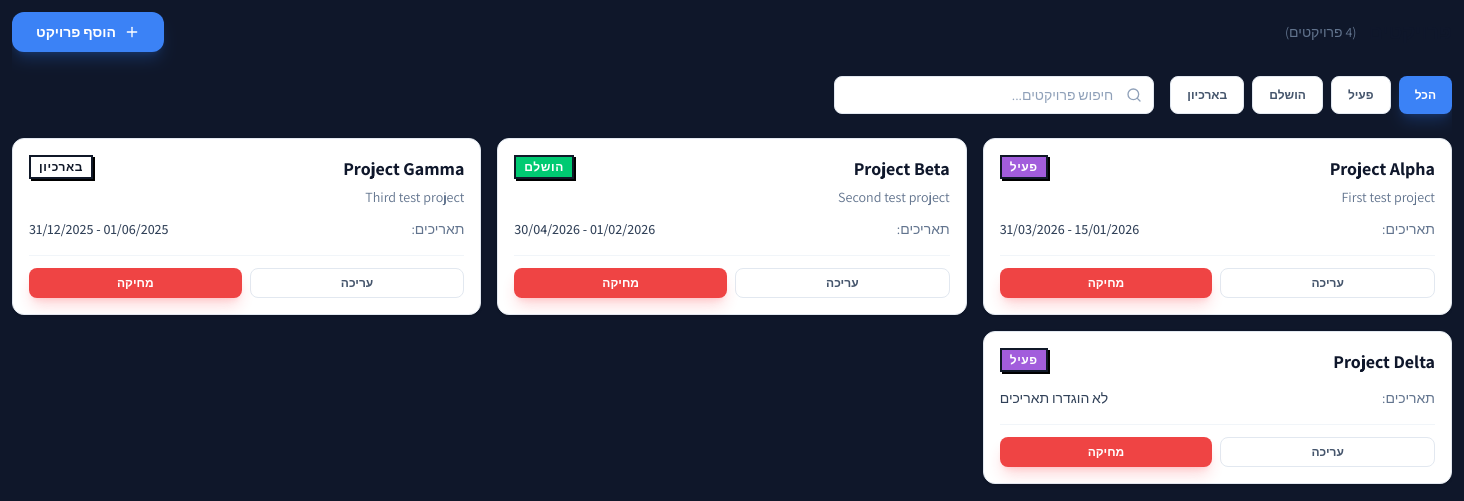
ProjectsList › status filter › filters to completed projects when completed button clicked
Click the button "הושלם": (1288,95) [1252,76,1323,114]
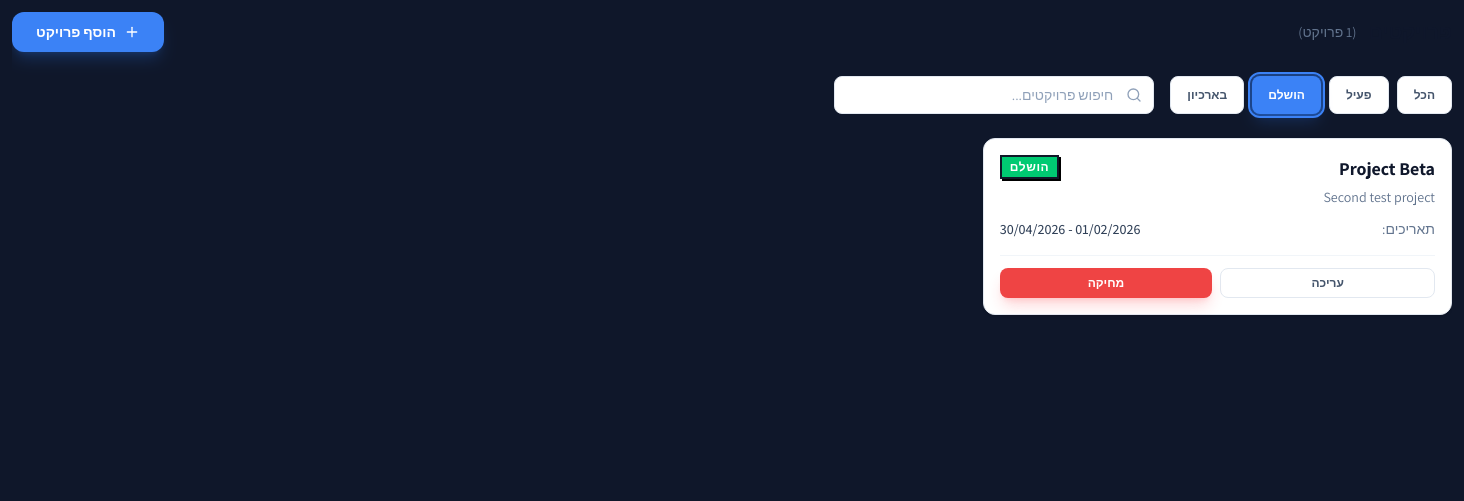
Expected: the heading "Project Beta" is shown, [1339,157,1435,180]
Result: the heading "Project Alpha" is gone
